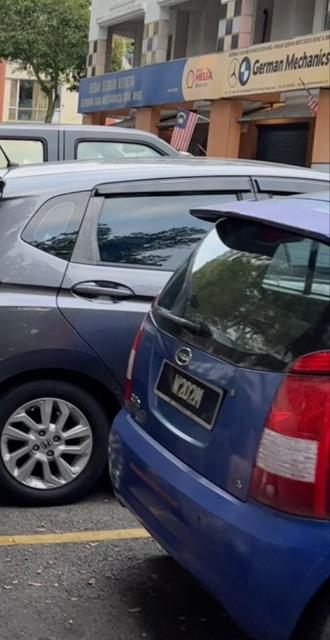License_Plate: (161, 363, 214, 426)
car: (1, 156, 330, 485), (108, 196, 330, 634)
